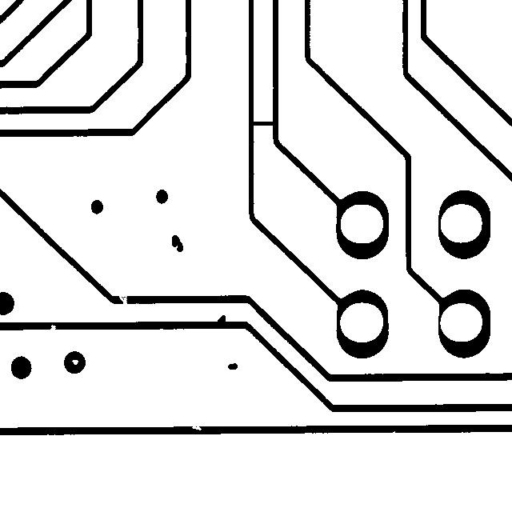copper: (164, 227, 190, 259), (220, 355, 245, 377)
mousebite: (184, 416, 209, 438), (42, 317, 63, 338)
open: (108, 282, 134, 313)
pin-hole: (64, 352, 86, 372)
short: (245, 114, 282, 133)
spur: (210, 307, 233, 332)
